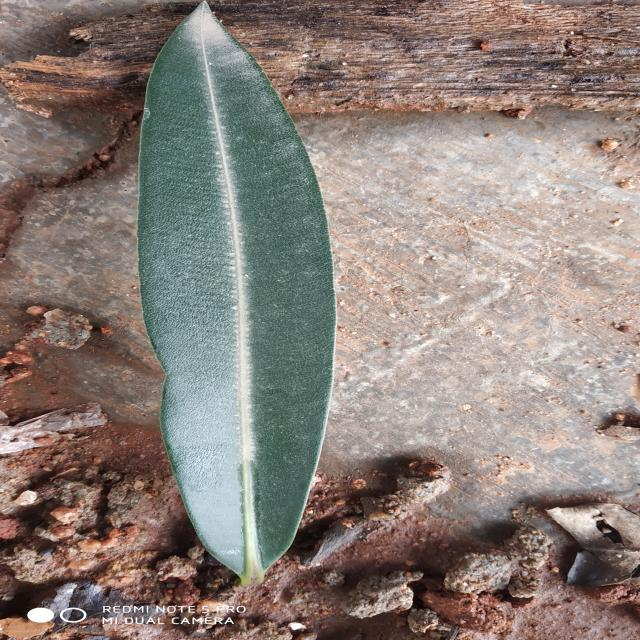ganigale: (138, 2, 336, 584)
